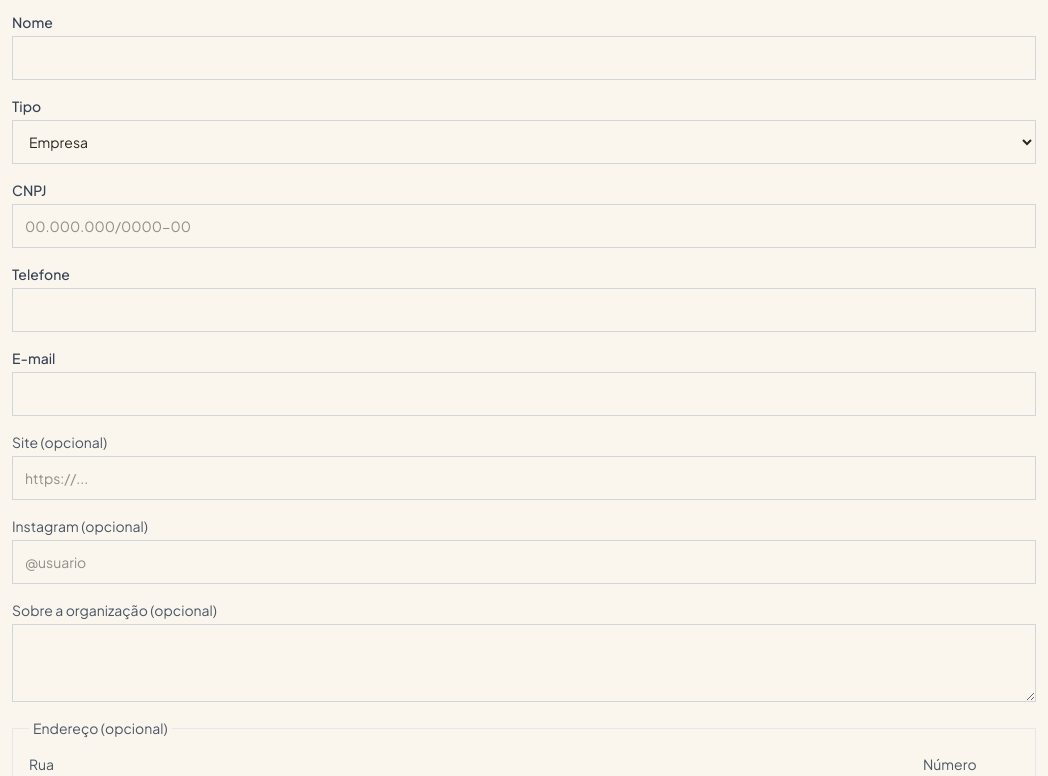
OrganizationForm › should show inline error for invalid CNPJ
This screenshot has width=1048, height=776.
Step 1. Select "Empresa" in the dropdown labelled "Tipo" → coordinates (524, 142), box [12,120,1036,164]
Step 2. Type "11111111111111" into the field labelled "CNPJ" → coordinates (524, 226), box [12,204,1036,248]
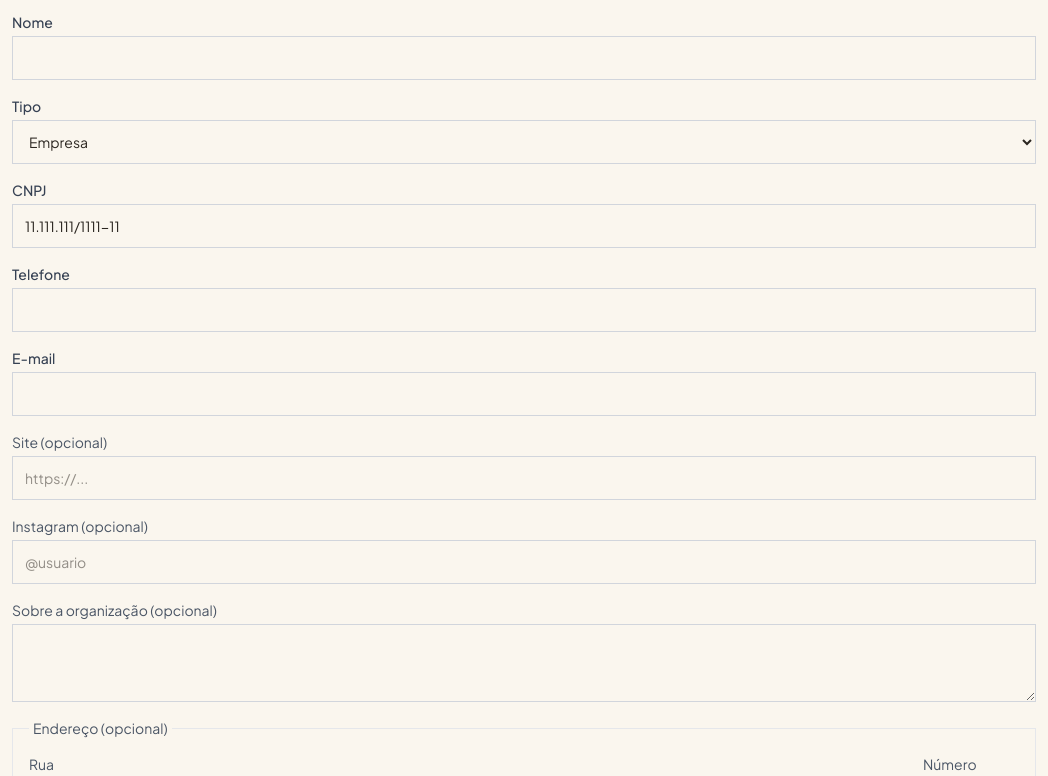
Step 3. Press Tab
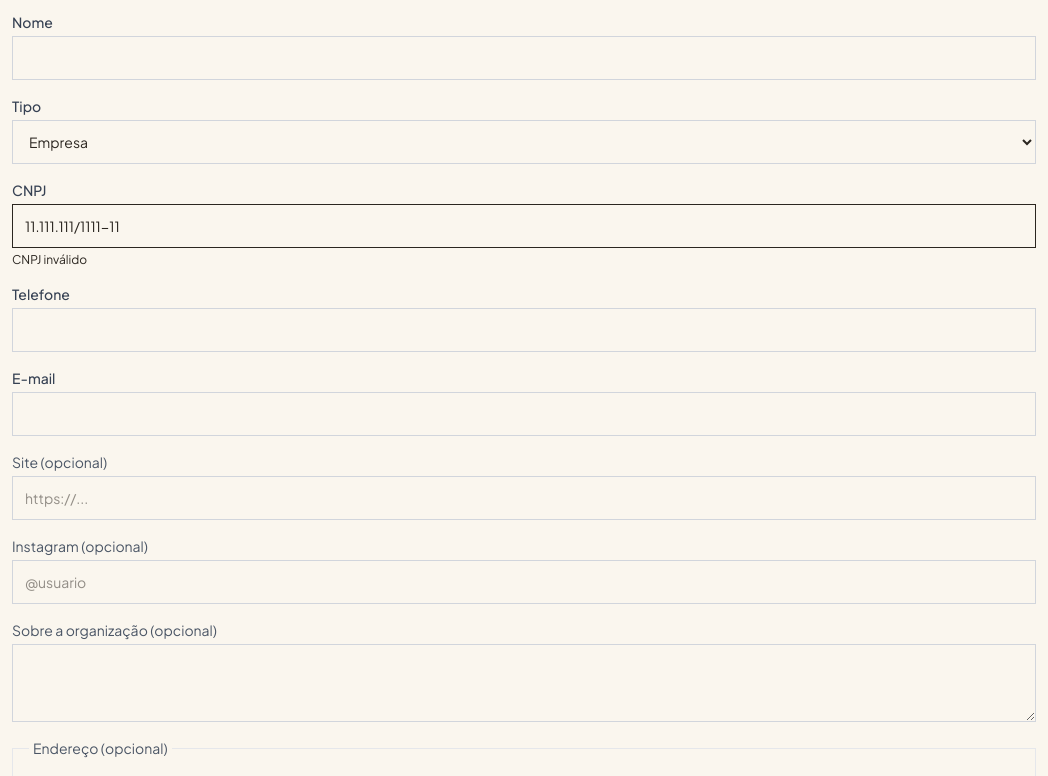
Result: the text "CNPJ inválido" is shown at [12,252,87,267]
